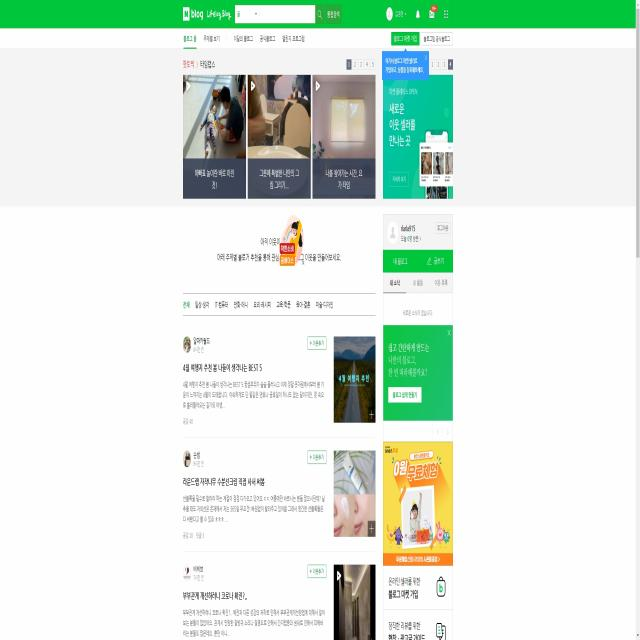menu-bar: (384, 3, 456, 24)
search: (233, 4, 326, 24)
side-panel: (382, 45, 454, 639)
tab-bar: (180, 291, 338, 318), (181, 30, 306, 46)
